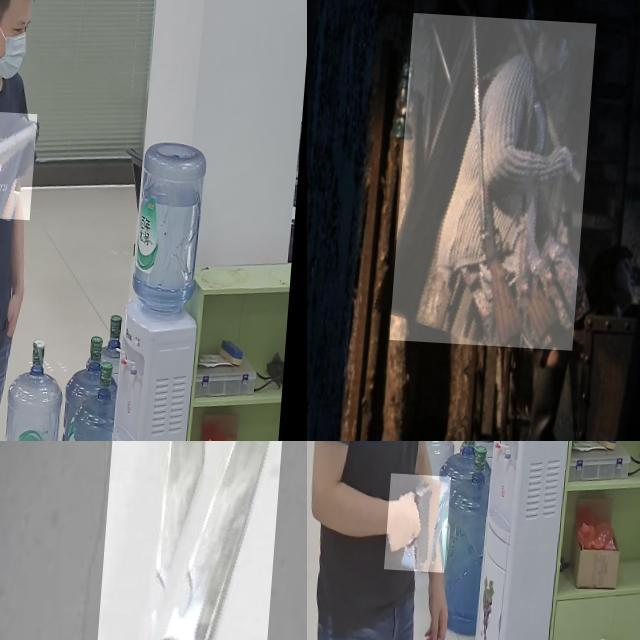-: (80, 441, 285, 640)
gun-knife-thesis - v11 Yolov5 augmented: (397, 9, 599, 346), (392, 468, 458, 568), (0, 106, 39, 215)
